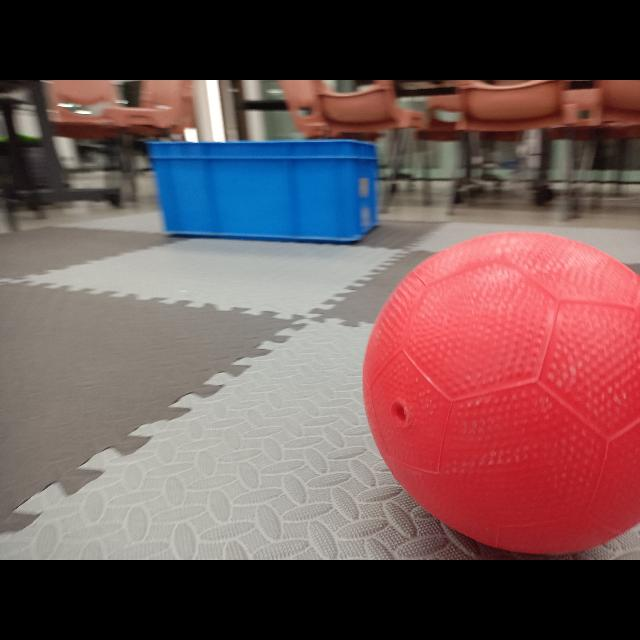R: (364, 232, 640, 552)
